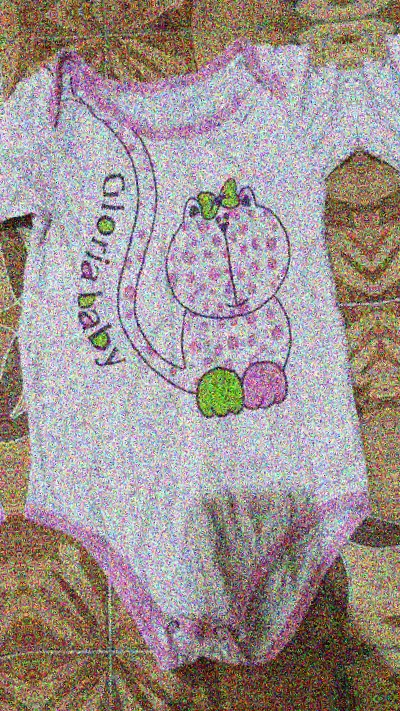Body: (0, 19, 400, 684), (347, 0, 400, 643), (0, 61, 27, 711)
